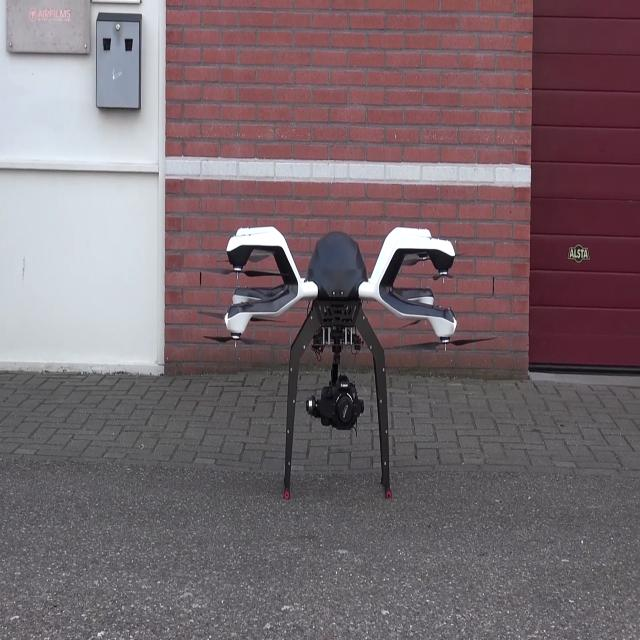drone: (202, 191, 460, 510)
